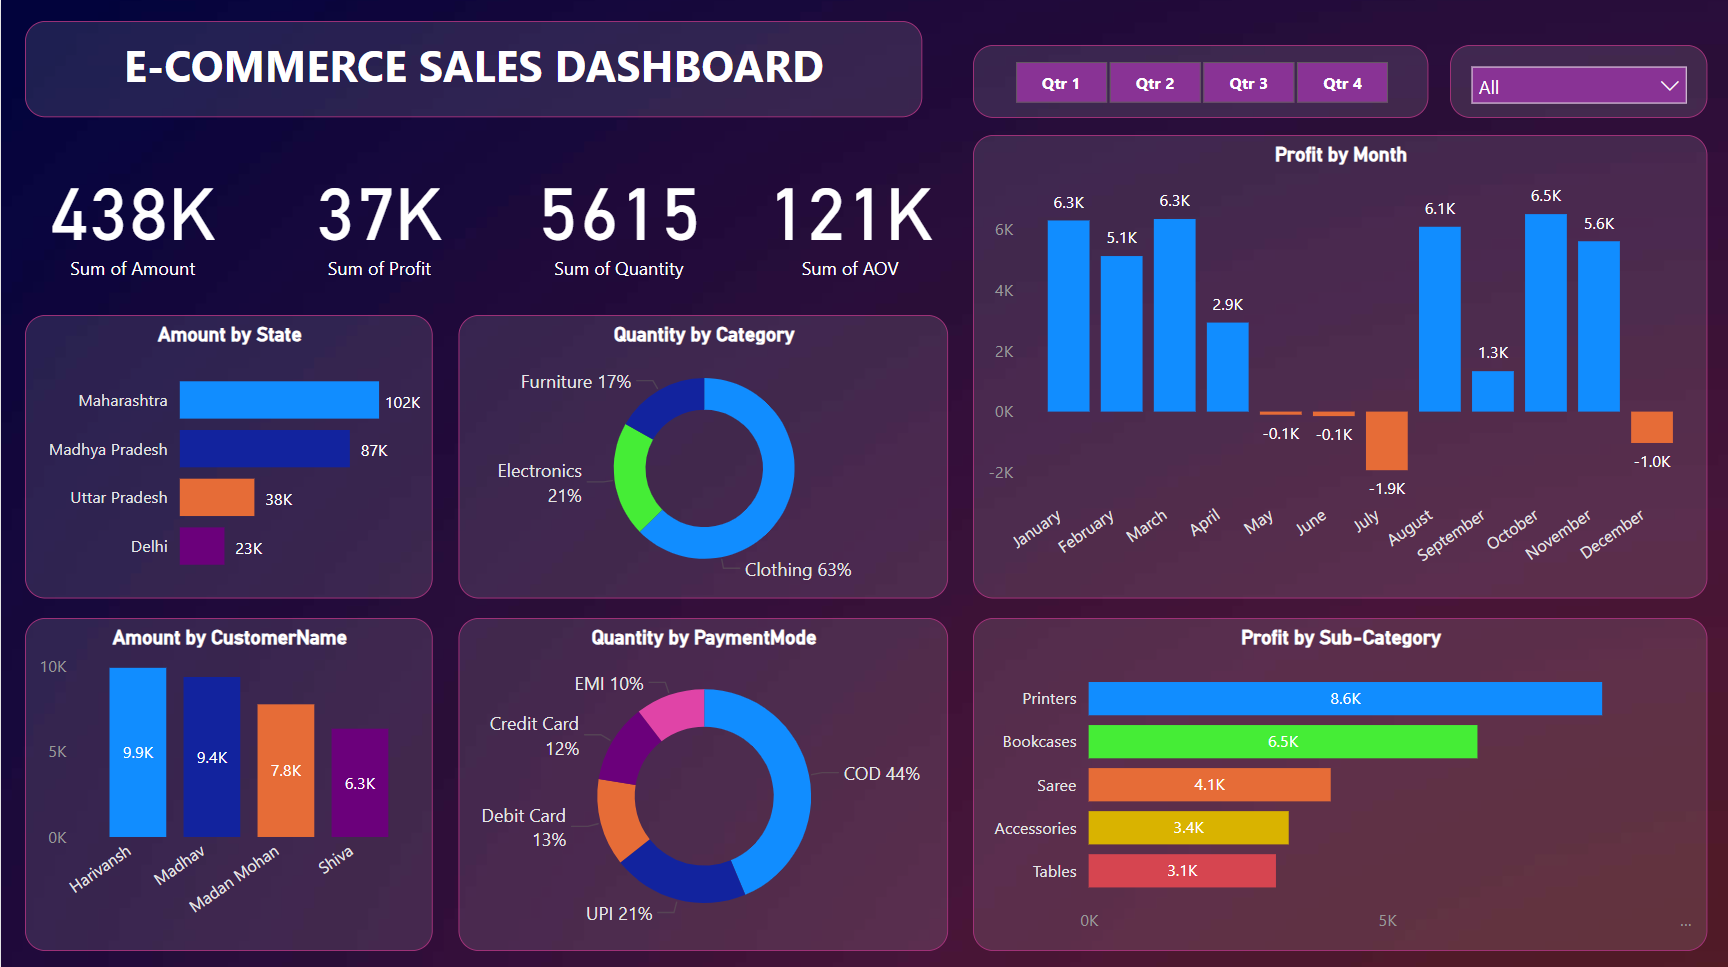

This screenshot's page, from the dashboard's own definition file:
{"tool":"powerbi","page":{"name":"Page 1","canvas":[1280,720],"ordinal":0},"visuals":[{"type":"columnChart","title":"Profit by Month","fields":{"Category":["Orders.Order Date.Variation.Date Hierarchy.Month"],"Y":["Details.Profit"]},"box":[720.5,100.2,544,343.6],"z":0},{"type":"barChart","title":"Profit by Sub-Category","fields":{"Category":["Details.Sub-Category"],"Y":["Details.Profit"],"Series":["Details.Sub-Category"]},"box":[720.5,458.1,544,246.5],"z":1000},{"type":"donutChart","title":"Quantity by Category","fields":{"Y":["Details.Quantity"],"Category":["Details.Category"]},"box":[338.8,233.8,362.7,210],"z":2000},{"type":"donutChart","title":"Quantity by PaymentMode","fields":{"Y":["Details.Quantity"],"Category":["Details.PaymentMode"]},"box":[338.8,458.1,362.7,246.5],"z":3000},{"type":"card","fields":{"Values":["Details.Amount"]},"box":[17.5,103.4,159.1,114.5],"z":4000},{"type":"card","fields":{"Values":["Details.Profit"]},"box":[210,103.4,140,114.5],"z":5000},{"type":"card","fields":{"Values":["Details.Quantity"]},"box":[383.3,103.4,147.9,114.5],"z":6000},{"type":"card","fields":{"Values":["Details.AOV"]},"box":[555.1,103.4,146.3,114.5],"z":7000},{"type":"barChart","title":"Amount by State","fields":{"Category":["Orders.State"],"Y":["Details.Amount"],"Series":["Orders.State"]},"box":[17.5,233.8,302.2,210],"z":8000},{"type":"columnChart","title":"Amount by CustomerName","fields":{"Category":["Orders.CustomerName"],"Y":["Details.Amount"],"Series":["Orders.CustomerName"]},"box":[17.5,458.1,302.2,246.5],"z":9000},{"type":"slicer","fields":{"Values":["Orders.Order Date.Variation.Date Hierarchy.Quarter"]},"box":[720.5,33.4,337.2,54.1],"z":10000},{"type":"slicer","fields":{"Values":["Orders.State"]},"box":[1073.7,33.4,190.9,54.1],"z":11000},{"type":"textbox","box":[17.5,15.9,664.9,71.6],"z":12000}]}

Visuals, with their boxes in screenshot pixels (x1, y1, x2, y2), scaled from the page's 1280x720 canvas onto the 1728x967 screenshot:
"Profit by Month" columnChart: box=[973, 135, 1707, 596]
"Profit by Sub-Category" barChart: box=[973, 615, 1707, 946]
"Quantity by Category" donutChart: box=[457, 314, 947, 596]
"Quantity by PaymentMode" donutChart: box=[457, 615, 947, 946]
card - Details.Amount: box=[24, 139, 238, 293]
card - Details.Profit: box=[284, 139, 473, 293]
card - Details.Quantity: box=[517, 139, 717, 293]
card - Details.AOV: box=[749, 139, 947, 293]
"Amount by State" barChart: box=[24, 314, 432, 596]
"Amount by CustomerName" columnChart: box=[24, 615, 432, 946]
slicer - Orders.Order Date.Variation.Date Hierarchy.Quarter: box=[973, 45, 1428, 118]
slicer - Orders.State: box=[1449, 45, 1707, 118]
textbox: box=[24, 21, 921, 118]
